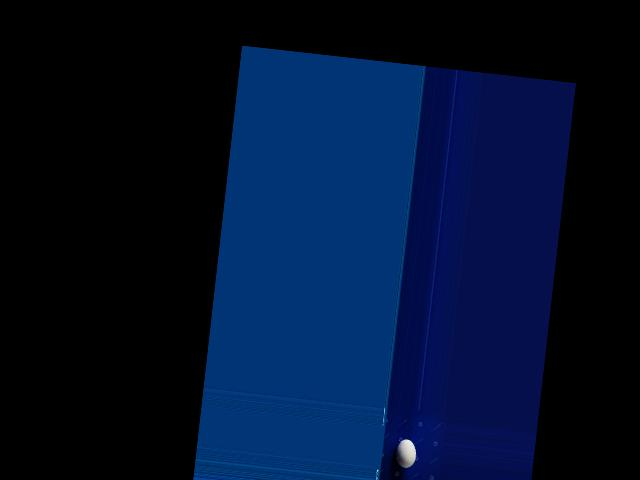egg: (394, 437, 417, 468)
